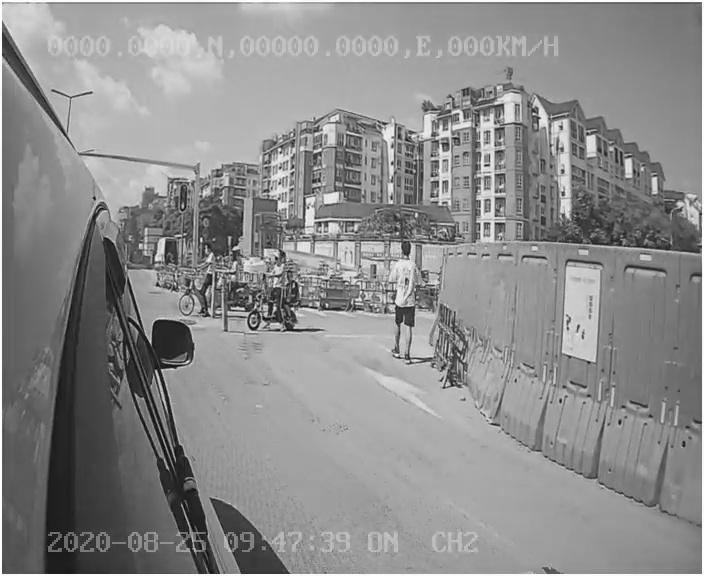person: (381, 238, 429, 366)
